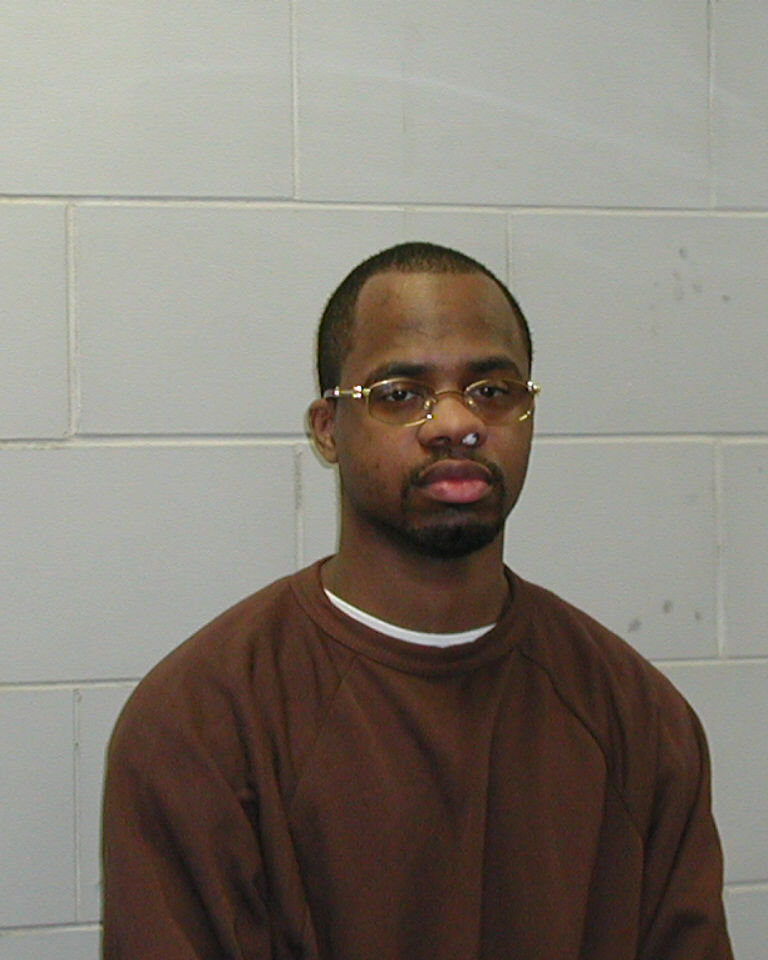face: (305, 242, 541, 555)
